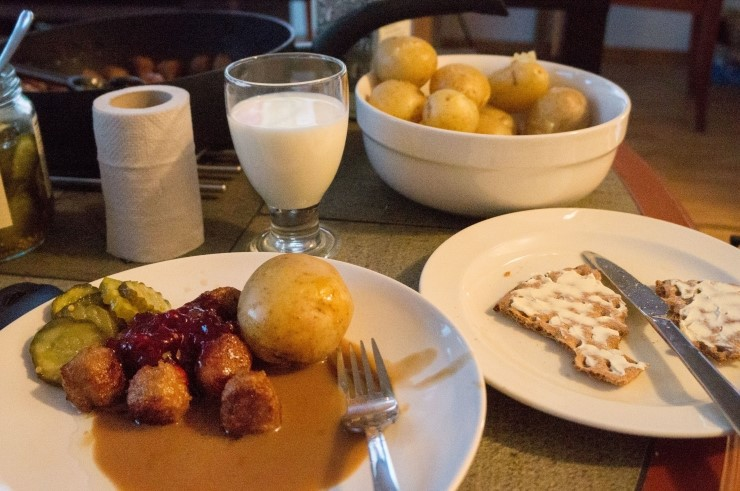boiled potatoes: (382, 40, 601, 138), (247, 251, 354, 358)
glass of milk: (217, 60, 364, 247)
meatballs: (86, 332, 275, 431)
